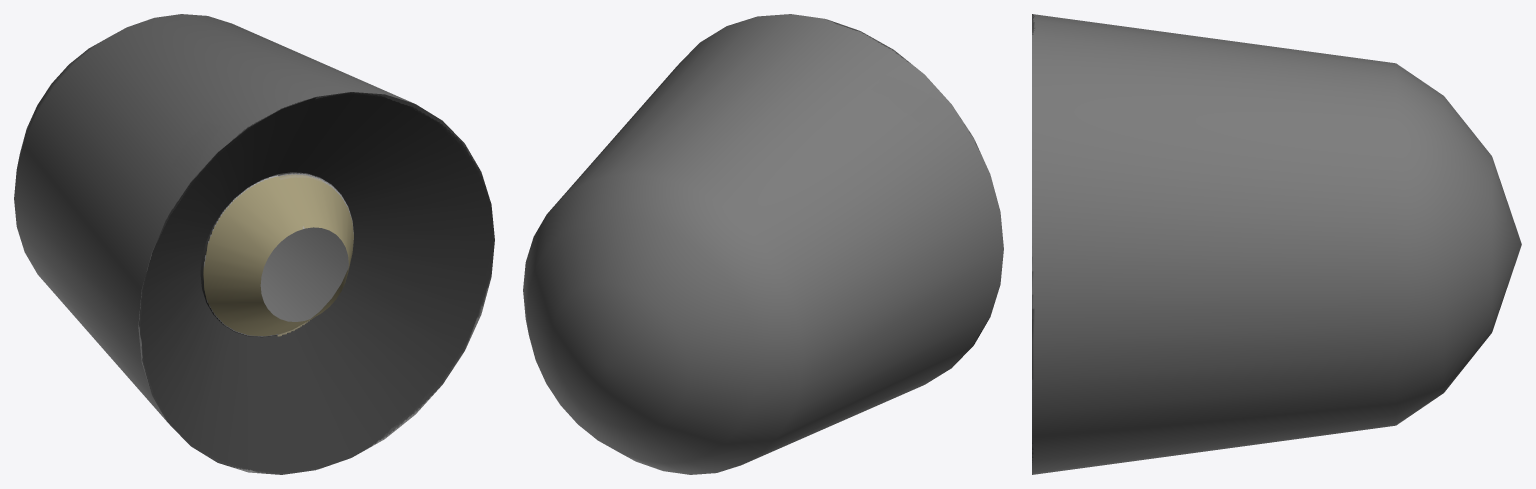
The model's file is rocket.dae.
3 views of the same model, side by side, from view 1: azimuth 30°, elevation 25°; view 2: azimuth 150°, elevation 25°; view 3: azimuth 270°, elevation 25° (orthographic). The views are drawn at different scales.
Parts seen in each view (by area): view 1: Cylinder; view 2: Cylinder; view 3: Cylinder.
Part boxes in pixels (x1=…): Cylinder: x1=14, y1=14, x2=494, y2=474; Cylinder: x1=523, y1=14, x2=1003, y2=474; Cylinder: x1=1032, y1=14, x2=1521, y2=474.
Bounding box in the file's own units: 1.42 × 1.51 × 1.42.
Materials: 1 (1 with a texture image).
